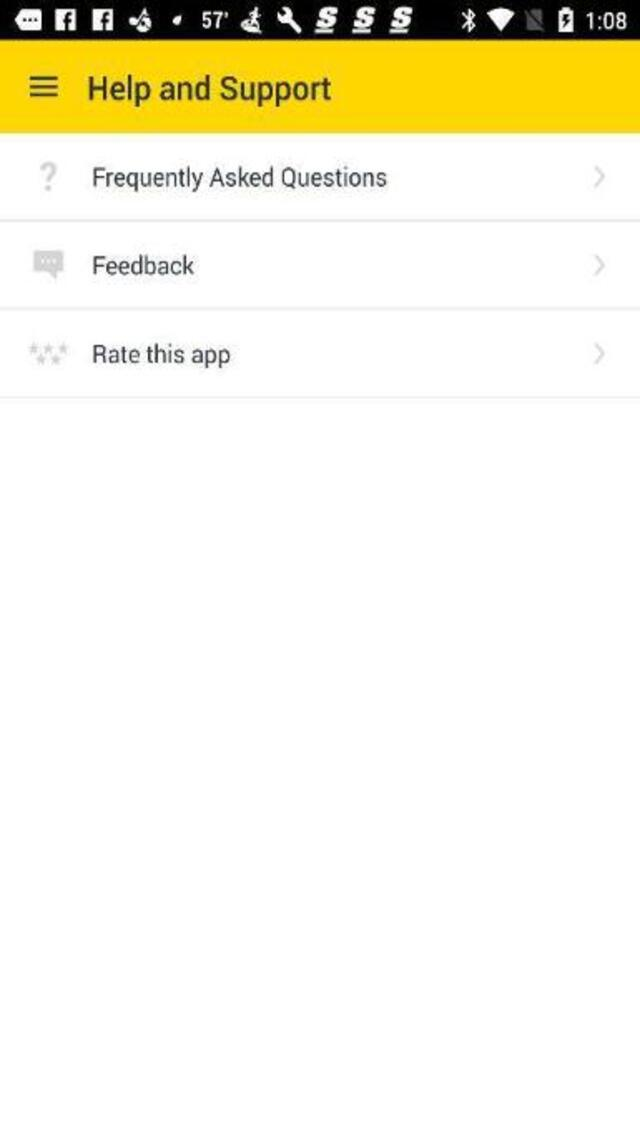Icon: (28, 340, 68, 364), (32, 250, 64, 280), (31, 76, 59, 98), (39, 161, 57, 191), (594, 252, 606, 274), (592, 343, 604, 364), (592, 166, 604, 186)
Text: (93, 166, 386, 193), (88, 74, 331, 106), (93, 341, 229, 366), (93, 255, 193, 276)
